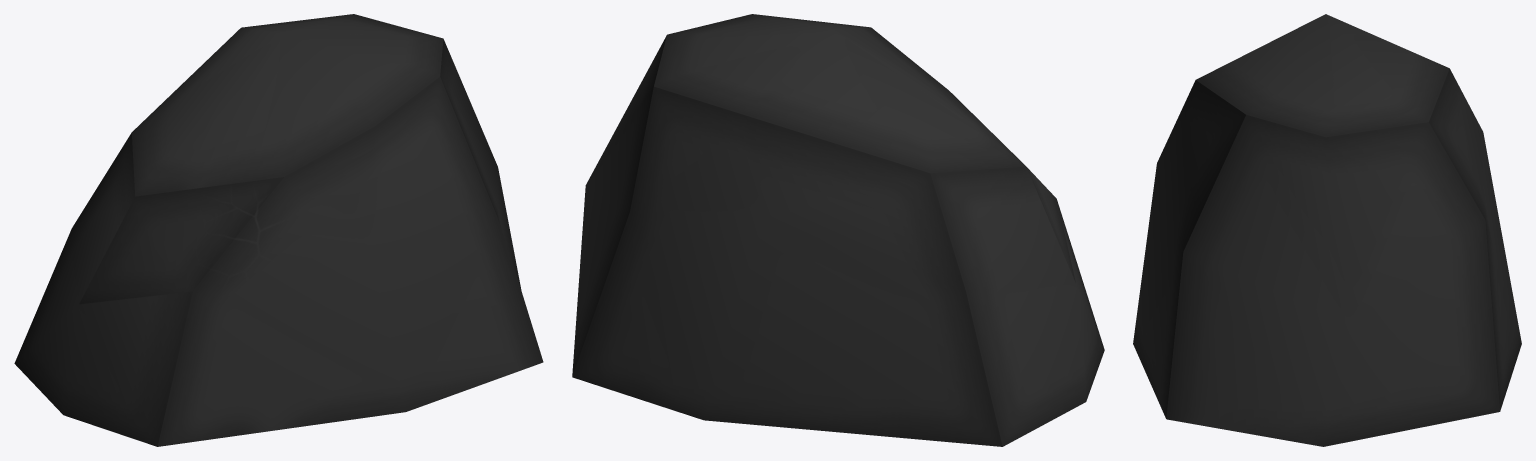
File: Rock2.fbx
3 renders of one model, left to right at view 1: azimuth 30°, elevation 25°; view 2: azimuth 150°, elevation 25°; view 3: azimuth 270°, elevation 25°, orthographic. The views are drawn at different scales.
Parts seen in each view (by area): view 1: Rock 2; view 2: Rock 2; view 3: Rock 2.
Part boxes in pixels (bbox=[...]): Rock 2: bbox=[14, 14, 543, 446]; Rock 2: bbox=[572, 14, 1104, 446]; Rock 2: bbox=[1133, 14, 1521, 446].
Bounding box in the file's own units: 53.7 × 38.27 × 34.31.
